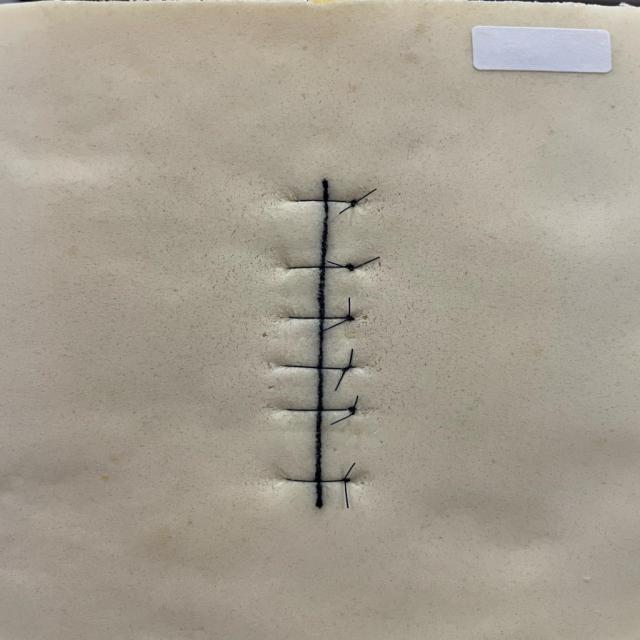knot: (342, 262, 357, 273), (346, 405, 359, 417), (340, 364, 355, 373), (343, 313, 357, 322), (348, 198, 358, 209), (340, 477, 353, 484)
leftover: (352, 188, 377, 205), (350, 256, 380, 270), (322, 317, 349, 331), (329, 411, 355, 425), (333, 368, 347, 392), (342, 461, 357, 480), (343, 479, 350, 509), (326, 260, 348, 269), (338, 204, 354, 214), (347, 348, 354, 368), (351, 395, 359, 410), (347, 297, 351, 318)
stitch: (282, 364, 354, 370), (287, 265, 354, 270), (284, 477, 347, 482), (294, 199, 355, 204), (285, 407, 356, 411), (287, 316, 353, 319)
wound: (315, 181, 329, 507)
